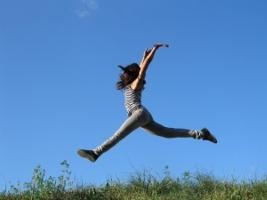person without safety: (106, 56, 175, 139)
